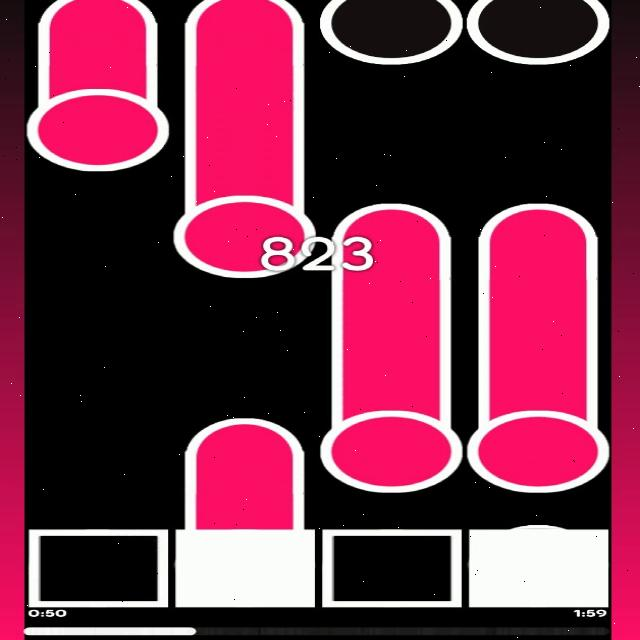end_hold: (331, 179, 457, 249), (473, 190, 603, 250), (178, 402, 308, 457), (31, 0, 163, 27), (185, 0, 307, 28)
note: (319, 0, 464, 65), (467, 0, 610, 63)
start_hold: (319, 394, 461, 492), (26, 77, 172, 172), (175, 180, 316, 278), (468, 396, 608, 494)
